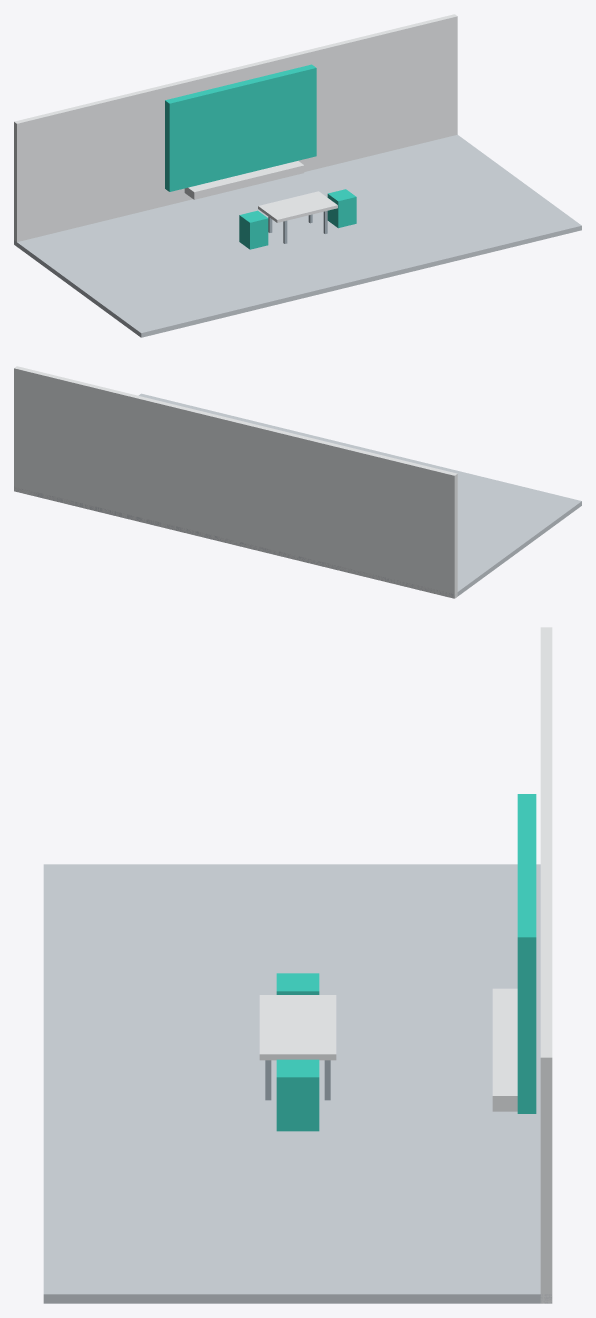
The picture shows the model from 3 angles, top to bottom: view 1: azimuth 30°, elevation 25°; view 2: azimuth 150°, elevation 25°; view 3: azimuth 270°, elevation 25°; orthographic projection. The views are drawn at different scales.
Parts seen in each view (by area): view 1: Exhibition Booth Concept; view 2: Exhibition Booth Concept; view 3: Exhibition Booth Concept.
Part boxes in pixels (x1,y1,x2,y2): Exhibition Booth Concept: [14, 14, 581, 337]; Exhibition Booth Concept: [14, 366, 581, 598]; Exhibition Booth Concept: [43, 627, 552, 1303].
Bounding box in the file's own units: 12 × 3.2 × 6.
